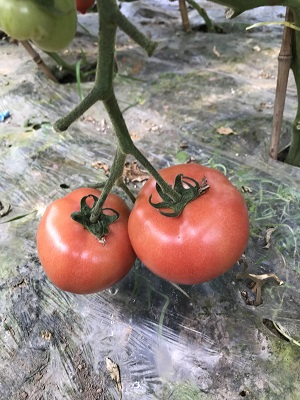mature-tomato: (128, 162, 249, 285), (34, 186, 137, 294)
